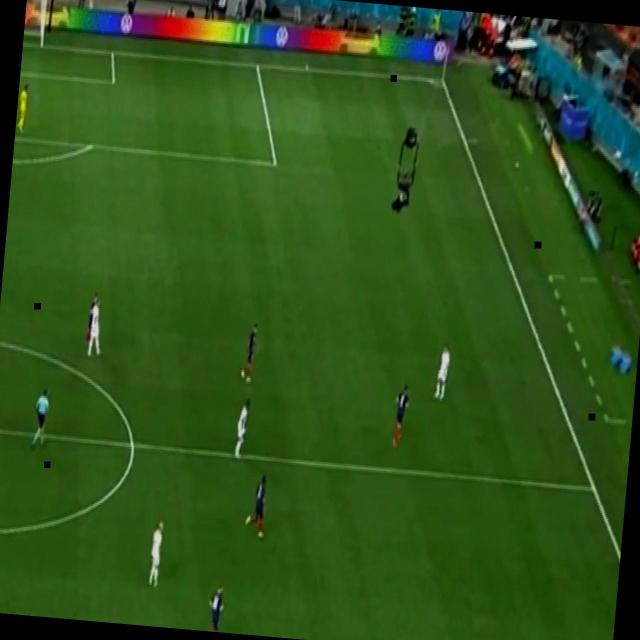player-white: (242, 470, 272, 543), (144, 515, 170, 595), (388, 380, 416, 452), (28, 382, 56, 454), (431, 334, 456, 406), (238, 320, 263, 387), (84, 296, 109, 362), (231, 396, 254, 466), (206, 579, 230, 633), (15, 78, 33, 134), (83, 290, 99, 346)
